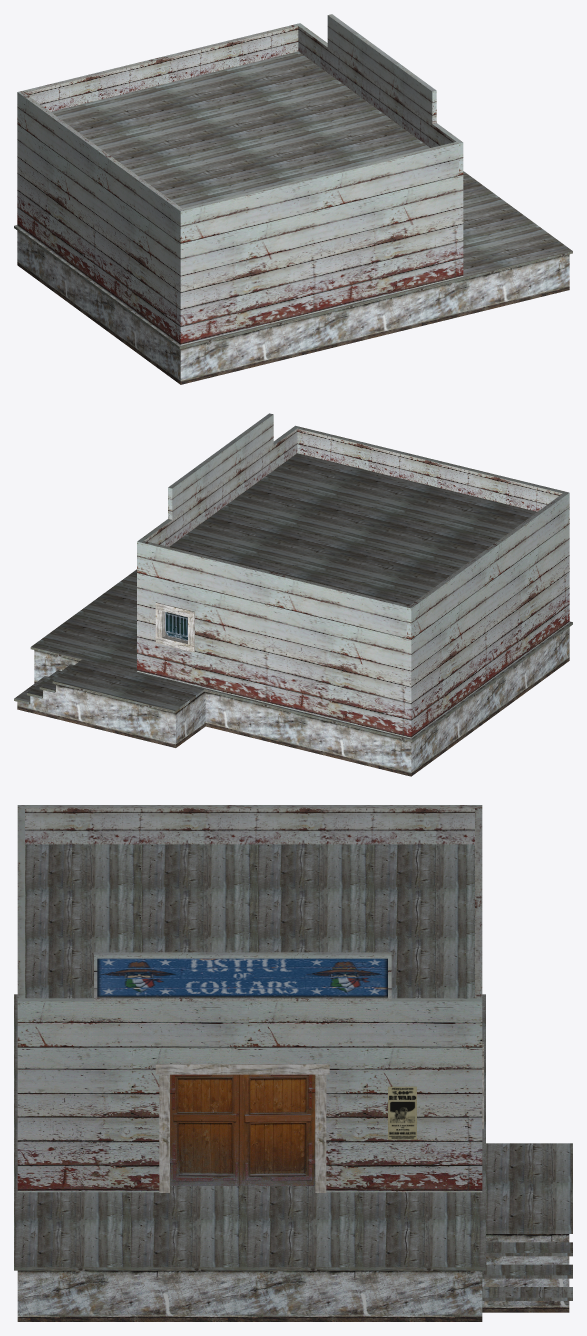
Rendered from StaticMesh9.fbx.
The picture shows the model from 3 angles, top to bottom: view 1: azimuth 30°, elevation 25°; view 2: azimuth 150°, elevation 25°; view 3: azimuth 270°, elevation 25°; orthographic projection. The views are drawn at different scales.
Parts seen in each view (by area): view 1: StaticMesh9; view 2: StaticMesh9; view 3: StaticMesh9.
Part boxes in pixels (left/top/right/bottom): StaticMesh9: left=14, top=14, right=572, bottom=384; StaticMesh9: left=14, top=413, right=572, bottom=776; StaticMesh9: left=14, top=805, right=572, bottom=1321.
Size of the model in its own units: 71200 by 35600 by 61600.
